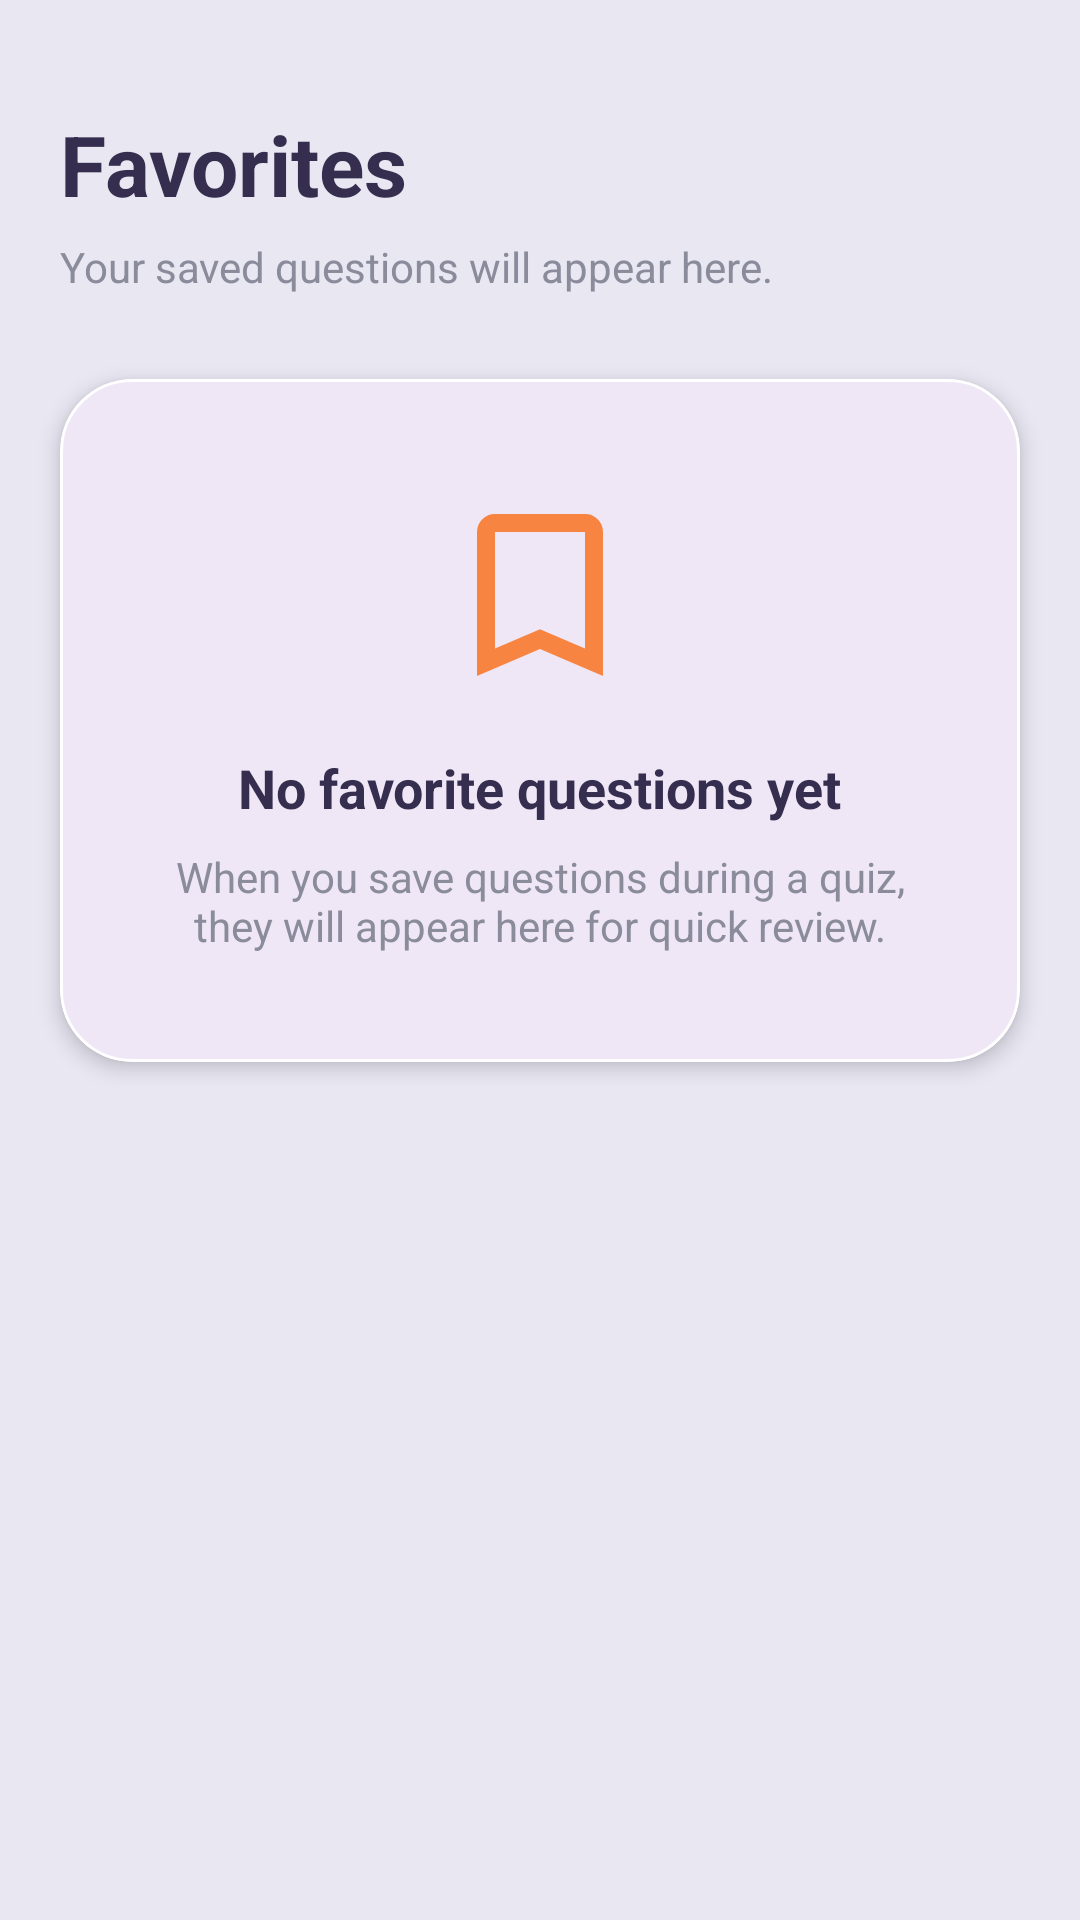

Named icons in this screenshot (1080px×1920px) and their bounding boxes, [x1=x1, y1=y1, x2=x2, y2=y2]:
bookmark: [x1=477, y1=514, x2=603, y2=676]
